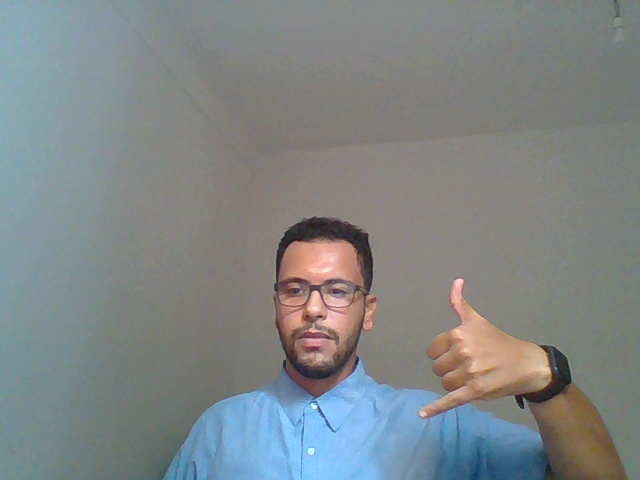callme: (382, 255, 603, 464)
